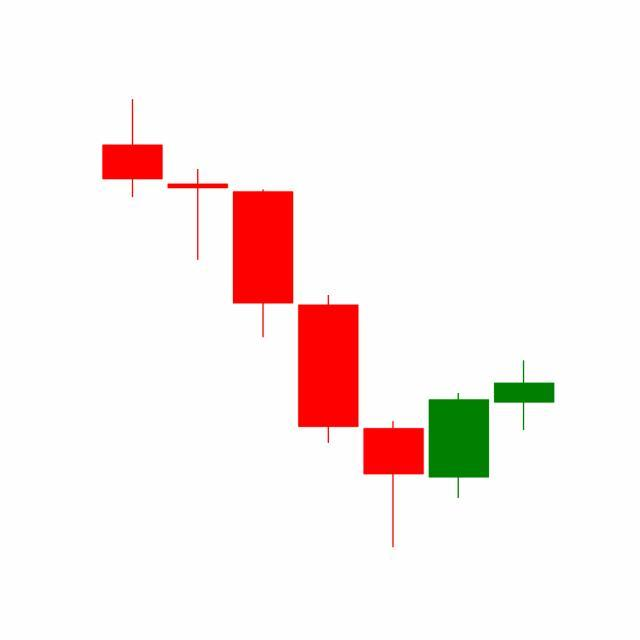Three Outside Up-Down: (360, 357, 556, 548)
